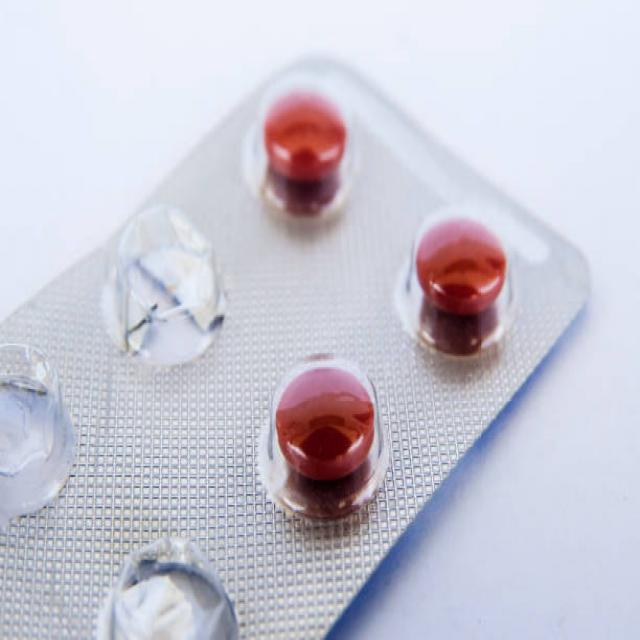Empty: (101, 204, 232, 374), (102, 521, 252, 640), (0, 316, 79, 533)
Pill: (258, 352, 399, 523), (394, 189, 524, 360), (252, 85, 361, 204)
